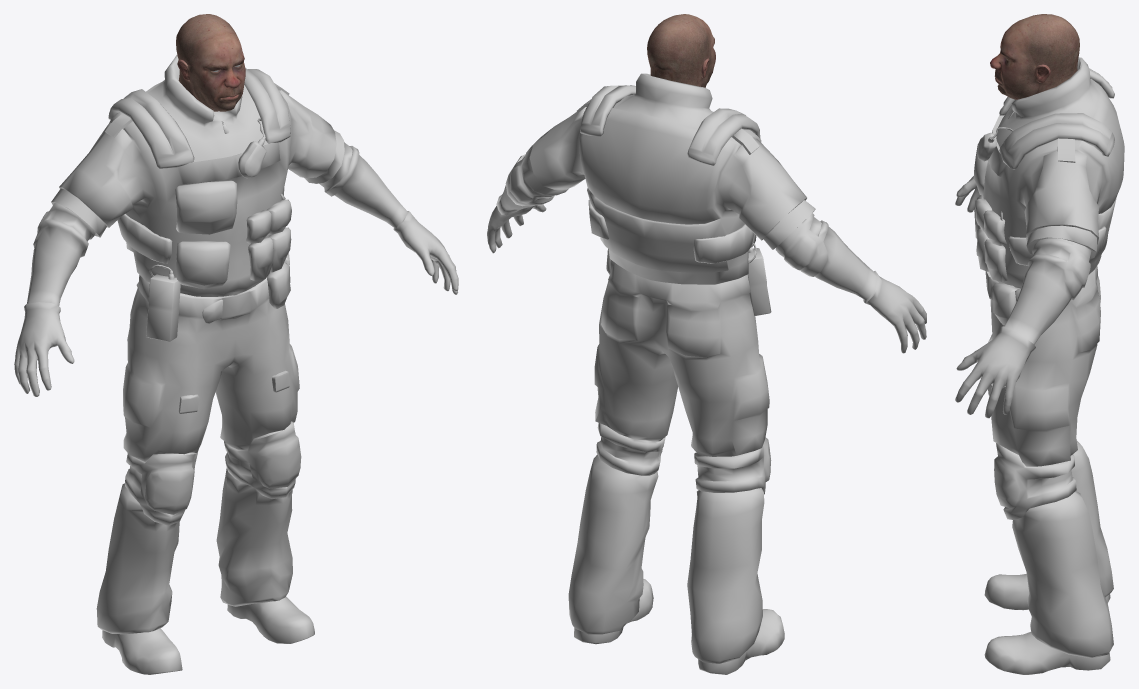
Rendered from サボるポリス.obj.
3 renders of one model, left to right at view 1: azimuth 30°, elevation 25°; view 2: azimuth 150°, elevation 25°; view 3: azimuth 270°, elevation 25°, orthographic.
Visible parts, largest first — view 1: Guard_HS_V2_Body_Zipped, Guard_Head_7_Skin; view 2: Guard_HS_V2_Body_Zipped, Guard_Head_7_Skin; view 3: Guard_HS_V2_Body_Zipped, Guard_Head_7_Skin.
Part boxes in pixels (box(x1,y1,x2,y2)): Guard_HS_V2_Body_Zipped: box(14, 55, 458, 674); Guard_Head_7_Skin: box(176, 14, 245, 111); Guard_HS_V2_Body_Zipped: box(487, 73, 926, 674); Guard_Head_7_Skin: box(647, 14, 715, 87); Guard_HS_V2_Body_Zipped: box(955, 57, 1124, 674); Guard_Head_7_Skin: box(990, 14, 1079, 99).
Size of the model in its own units: 1.41 by 1.95 by 0.4853.
